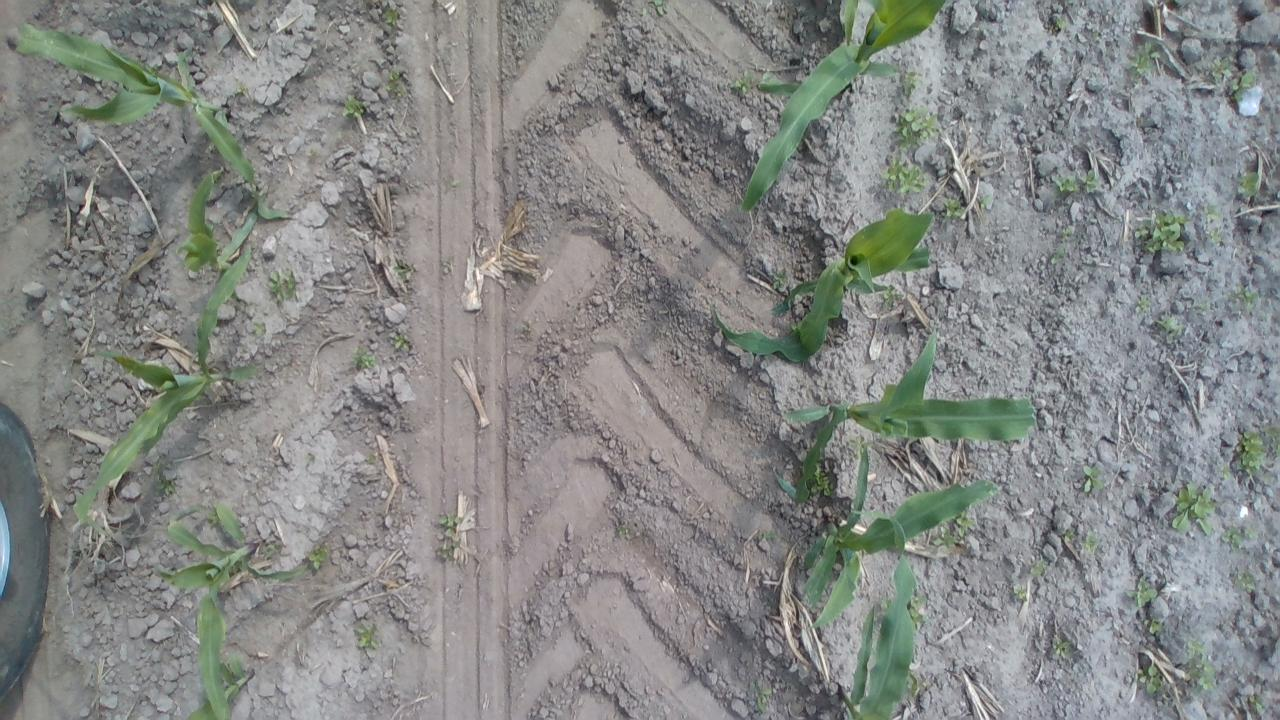Maize: (6, 10, 305, 226), (70, 239, 266, 534), (769, 329, 1043, 506), (738, 0, 954, 214), (794, 433, 1003, 639), (701, 206, 942, 365), (154, 484, 312, 720), (834, 554, 934, 720), (172, 166, 250, 287), (176, 659, 262, 720)
Weeds: (1220, 428, 1280, 486), (1194, 52, 1260, 99), (1164, 482, 1216, 536), (1134, 210, 1192, 258), (890, 105, 944, 156), (1176, 642, 1217, 700), (434, 510, 468, 566), (882, 158, 928, 195), (1120, 42, 1162, 82), (1134, 654, 1170, 696), (934, 512, 976, 548), (265, 270, 312, 301), (1054, 168, 1102, 198), (1051, 224, 1080, 273), (146, 461, 182, 500), (1220, 520, 1260, 552), (1063, 526, 1105, 556), (1121, 576, 1156, 612), (350, 620, 386, 654), (349, 345, 386, 378), (745, 676, 774, 716), (1224, 284, 1258, 316), (381, 68, 413, 102), (339, 92, 372, 122), (902, 668, 932, 700), (1079, 464, 1109, 495), (879, 286, 908, 318), (1228, 568, 1258, 598), (940, 195, 970, 225), (1238, 167, 1262, 204), (1048, 633, 1076, 664), (1150, 310, 1185, 334), (811, 465, 838, 496), (1203, 206, 1223, 247), (394, 256, 421, 284), (896, 68, 920, 99), (726, 72, 754, 98), (307, 544, 334, 570), (1192, 296, 1221, 317), (381, 2, 402, 31), (360, 453, 391, 472), (442, 170, 466, 194), (434, 251, 456, 276), (1134, 292, 1154, 318), (387, 332, 413, 352), (1146, 616, 1168, 639), (614, 522, 640, 541), (298, 142, 322, 162), (1053, 13, 1072, 38), (1250, 692, 1270, 715), (235, 78, 252, 104), (1006, 582, 1028, 602), (979, 192, 996, 214), (1028, 558, 1046, 578), (263, 542, 281, 562), (648, 1, 672, 16), (249, 322, 270, 339), (770, 270, 781, 288)
